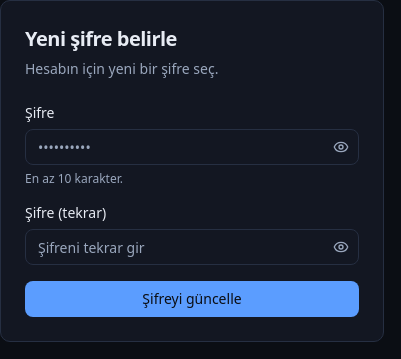
Scenario: ResetPasswordForm › geçersiz token yanıtında geçersiz bağlantı durumuna geçer
The image size is (401, 359).
Step 1. Type "0123456789" into the password field labelled "Şifre" → (192, 147), box [25, 129, 359, 165]
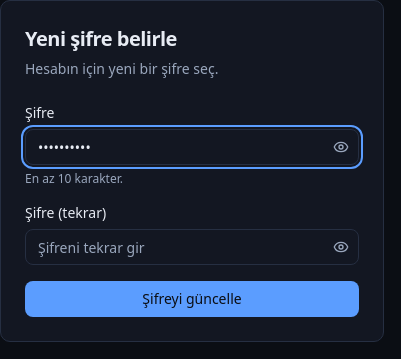
Step 2. Type "0123456789" into the password field labelled "Şifre (tekrar)" → (192, 247), box [25, 229, 359, 265]
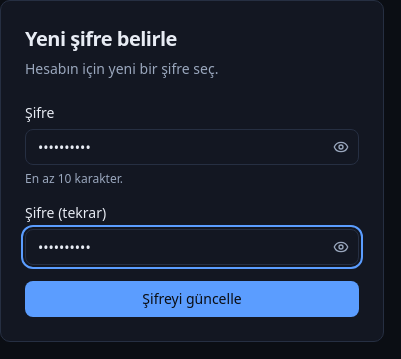
Step 3. Click the button "Şifreyi güncelle" → (192, 299), box [25, 281, 359, 317]
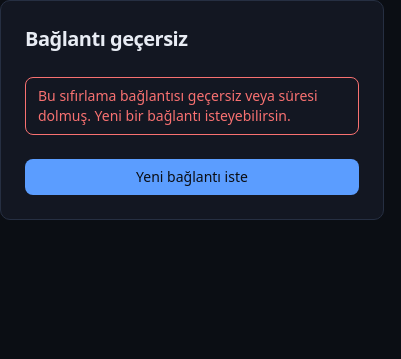
Result: the heading "Bağlantı geçersiz" is shown at [25, 25, 188, 52]
